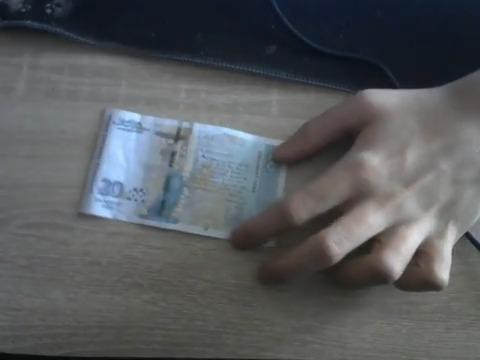20leva: (77, 108, 287, 240)
